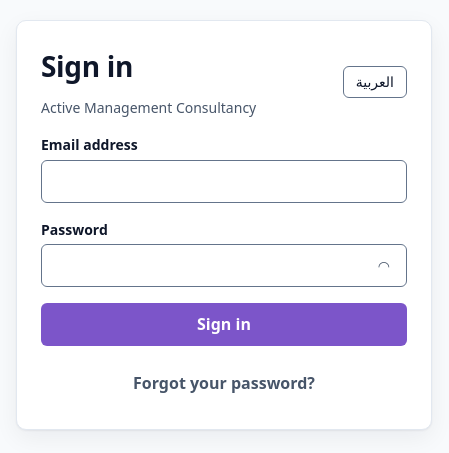
it: forgotten passwords on the sign-in screen › will not send an empty request
The image size is (449, 453).
Click the button "Forgot your password?": [224, 383] box [41, 362, 407, 405]
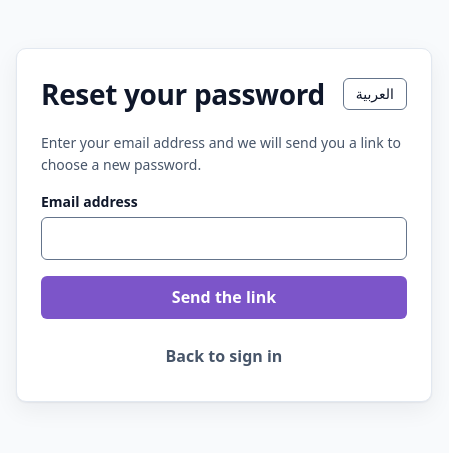
Click the button "Send the link": [224, 297] box [41, 276, 407, 319]
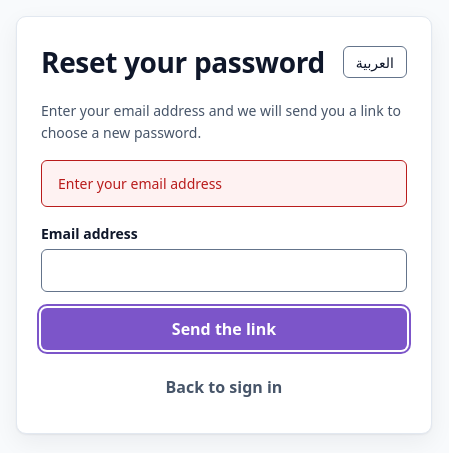
Result: the text "Enter your email address" is shown at [41, 160, 407, 207]
